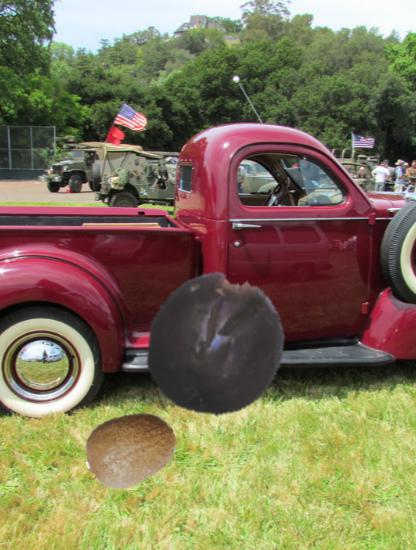Kiwi: (84, 403, 178, 497)
Passion: (143, 269, 290, 416)
